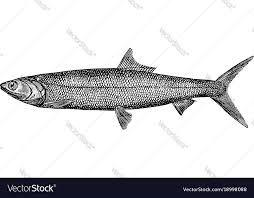Tenpounder: (2, 47, 254, 134)
